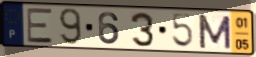3: (129, 11, 155, 48)
5: (170, 12, 195, 49)
6: (97, 10, 122, 46)
9: (57, 7, 83, 47)
E: (25, 7, 55, 45)
M: (196, 13, 233, 51)
